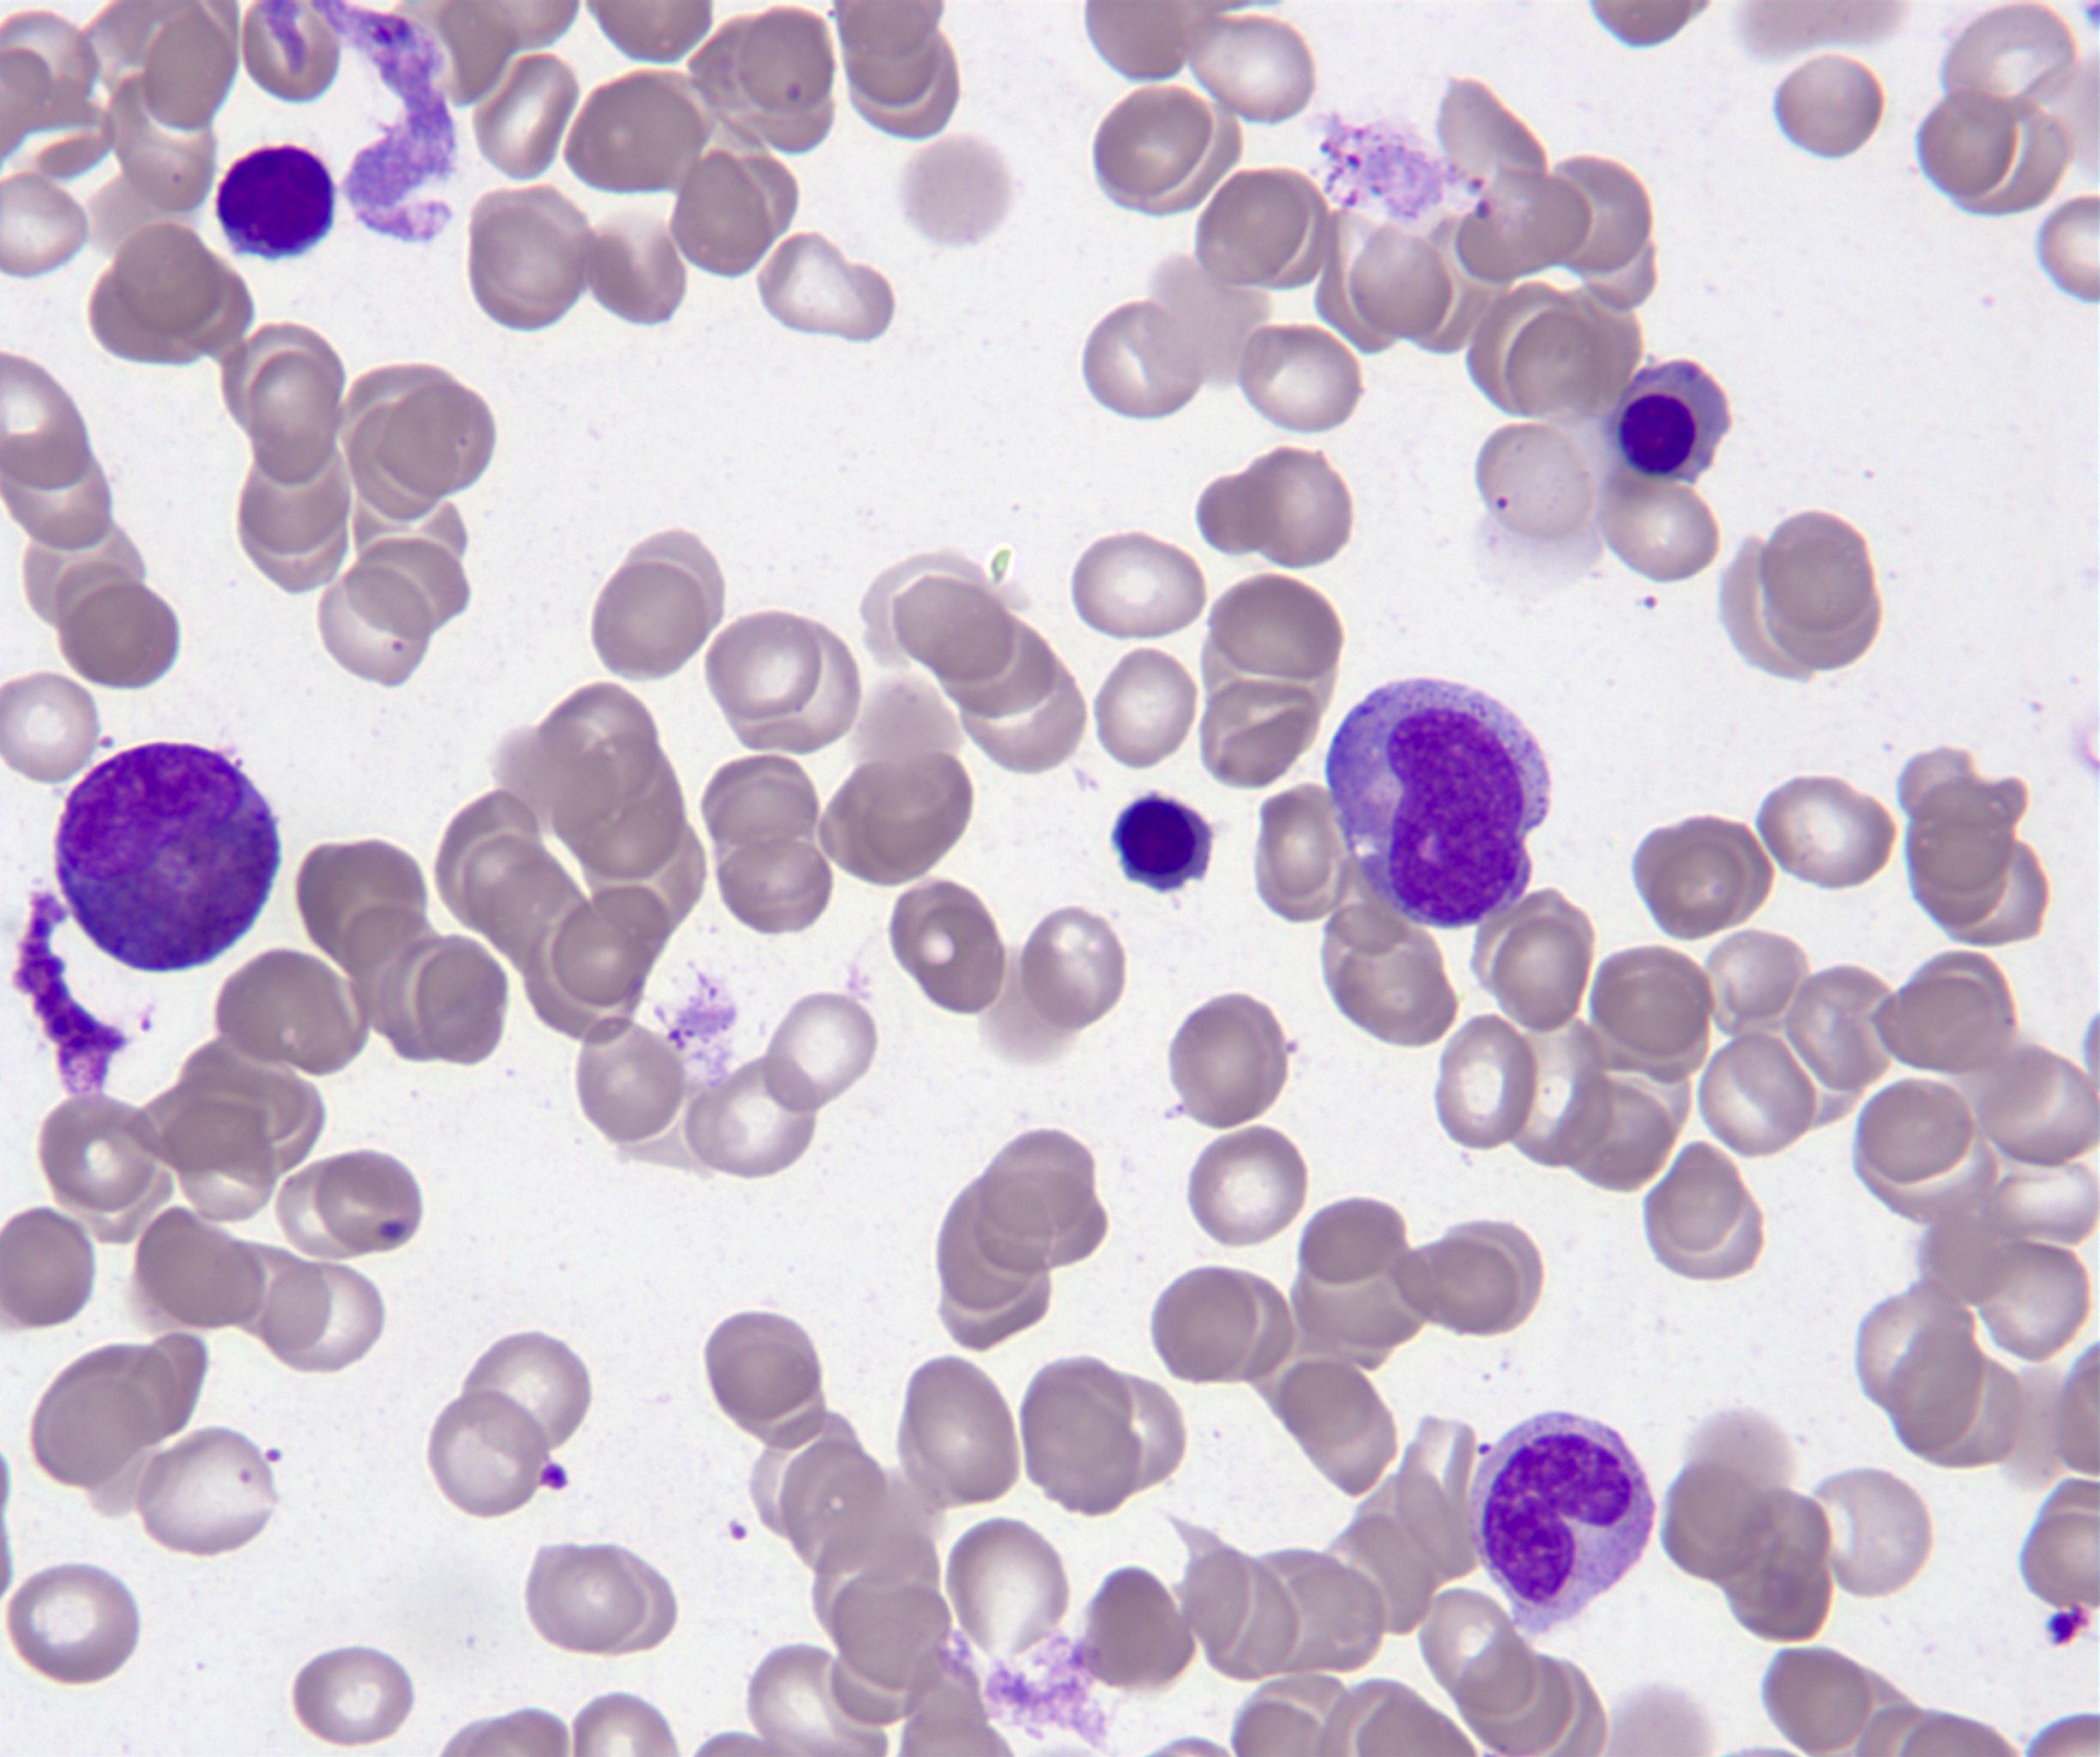24: (1605, 361, 1732, 483), (1113, 790, 1210, 888)
3: (1327, 677, 1551, 930)
32: (216, 148, 333, 258)
4: (1465, 1412, 1655, 1637)
E2: (56, 745, 279, 972)
